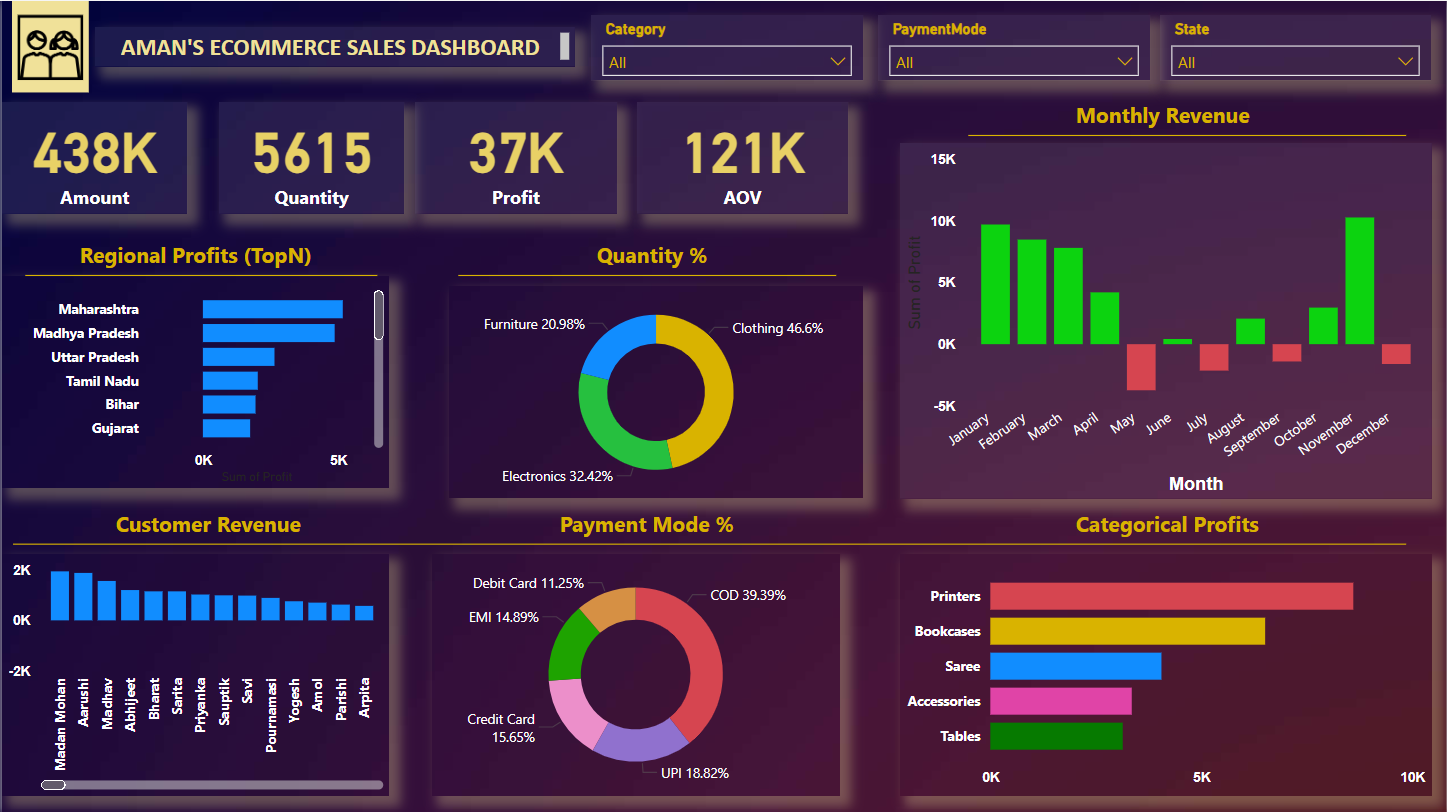

The dashboard page shown, as its layout file describes it:
{"tool":"powerbi","page":{"name":"Page 1","canvas":[1280,720],"ordinal":0},"visuals":[{"type":"textbox","box":[82,22.9,424.7,35],"z":0},{"type":"columnChart","title":"Profit by Month","fields":{"Y":["Details.Profit"],"Category":["Orders.Order Date.Variation.Date Hierarchy.Month"]},"box":[795,125.5,470.5,314.9],"z":1000},{"type":"barChart","title":"Profit by Month","fields":{"Category":["Details.Sub-Category"],"Y":["Details.Profit"]},"box":[795,489.8,470.5,213.5],"z":2000},{"type":"donutChart","title":"Sum Of Quantity","fields":{"Category":["Details.Category"],"Y":["Details.Quantity"]},"box":[395.7,252.1,366.8,188.2],"z":3000},{"type":"pieChart","title":"Sum Of Quantity By Payment Mode","fields":{"Category":["Details.PaymentMode"],"Y":["Details.Quantity"]},"box":[381.2,489.8,360.7,213.5],"z":4000},{"type":"card","fields":{"Values":["Details.Amount"]},"box":[0,89.3,164.1,98.9],"z":5000},{"type":"card","fields":{"Values":["Details.Quantity"]},"box":[191.8,89.3,164.1,98.9],"z":6000},{"type":"card","fields":{"Values":["Details.Profit"]},"box":[365.6,89.3,178.6,98.9],"z":7000},{"type":"card","fields":{"Values":["Details.AOV"]},"box":[562.2,89.3,187,98.9],"z":8000},{"type":"barChart","title":"Profit by State","fields":{"Y":["Details.Profit"],"Category":["Orders.State"]},"box":[0,243.7,342.6,188.2],"z":9000},{"type":"clusteredColumnChart","title":"Profit by Client","fields":{"Category":["Orders.CustomerName"],"Y":["Details.Profit"]},"box":[0,489.8,342.6,213.5],"z":10000},{"type":"image","box":[8.7,0,67.5,81],"z":11000},{"type":"basicShape","box":[0,460.9,1253.5,41],"z":12000},{"type":"basicShape","box":[845.7,98.9,407.8,39.8],"z":13000},{"type":"basicShape","box":[10.9,223.2,331.8,39.8],"z":14000},{"type":"basicShape","box":[394.5,223.2,354.7,39.8],"z":15000},{"type":"textbox","box":[945.8,83.2,226.8,36.2],"z":16000},{"type":"textbox","box":[521.2,207.5,118.2,36.2],"z":17000},{"type":"textbox","box":[63.9,207.5,226.8,36.2],"z":18000},{"type":"textbox","box":[95.3,445.2,260.6,36.2],"z":19000},{"type":"textbox","box":[488.6,445.2,226.8,36.2],"z":20000},{"type":"textbox","box":[945.8,445.2,226.8,36.2],"z":21000},{"type":"slicer","fields":{"Values":["Details.Category"]},"box":[521.2,12.1,241.3,57.9],"z":22000},{"type":"slicer","fields":{"Values":["Details.PaymentMode"]},"box":[775.7,12.1,241.3,57.9],"z":23000},{"type":"slicer","fields":{"Values":["Orders.State"]},"box":[1025.5,12.1,240.1,57.9],"z":24000}]}

Visuals, with their boxes in screenshot pixels (x1, y1, x2, y2), scaled from the page's 1280x720 canvas onto the 1447x812 screenshot:
textbox: <bbox>93, 26, 573, 65</bbox>
"Profit by Month" columnChart: <bbox>899, 142, 1431, 497</bbox>
"Profit by Month" barChart: <bbox>899, 552, 1431, 793</bbox>
"Sum Of Quantity" donutChart: <bbox>447, 284, 862, 497</bbox>
"Sum Of Quantity By Payment Mode" pieChart: <bbox>431, 552, 839, 793</bbox>
card - Details.Amount: <bbox>0, 101, 186, 212</bbox>
card - Details.Quantity: <bbox>217, 101, 402, 212</bbox>
card - Details.Profit: <bbox>413, 101, 615, 212</bbox>
card - Details.AOV: <bbox>636, 101, 847, 212</bbox>
"Profit by State" barChart: <bbox>0, 275, 387, 487</bbox>
"Profit by Client" clusteredColumnChart: <bbox>0, 552, 387, 793</bbox>
image: <bbox>10, 0, 86, 91</bbox>
basicShape: <bbox>0, 520, 1417, 566</bbox>
basicShape: <bbox>956, 112, 1417, 156</bbox>
basicShape: <bbox>12, 252, 387, 297</bbox>
basicShape: <bbox>446, 252, 847, 297</bbox>
textbox: <bbox>1069, 94, 1326, 135</bbox>
textbox: <bbox>589, 234, 723, 275</bbox>
textbox: <bbox>72, 234, 329, 275</bbox>
textbox: <bbox>108, 502, 402, 543</bbox>
textbox: <bbox>552, 502, 809, 543</bbox>
textbox: <bbox>1069, 502, 1326, 543</bbox>
slicer - Details.Category: <bbox>589, 14, 862, 79</bbox>
slicer - Details.PaymentMode: <bbox>877, 14, 1150, 79</bbox>
slicer - Orders.State: <bbox>1159, 14, 1431, 79</bbox>
